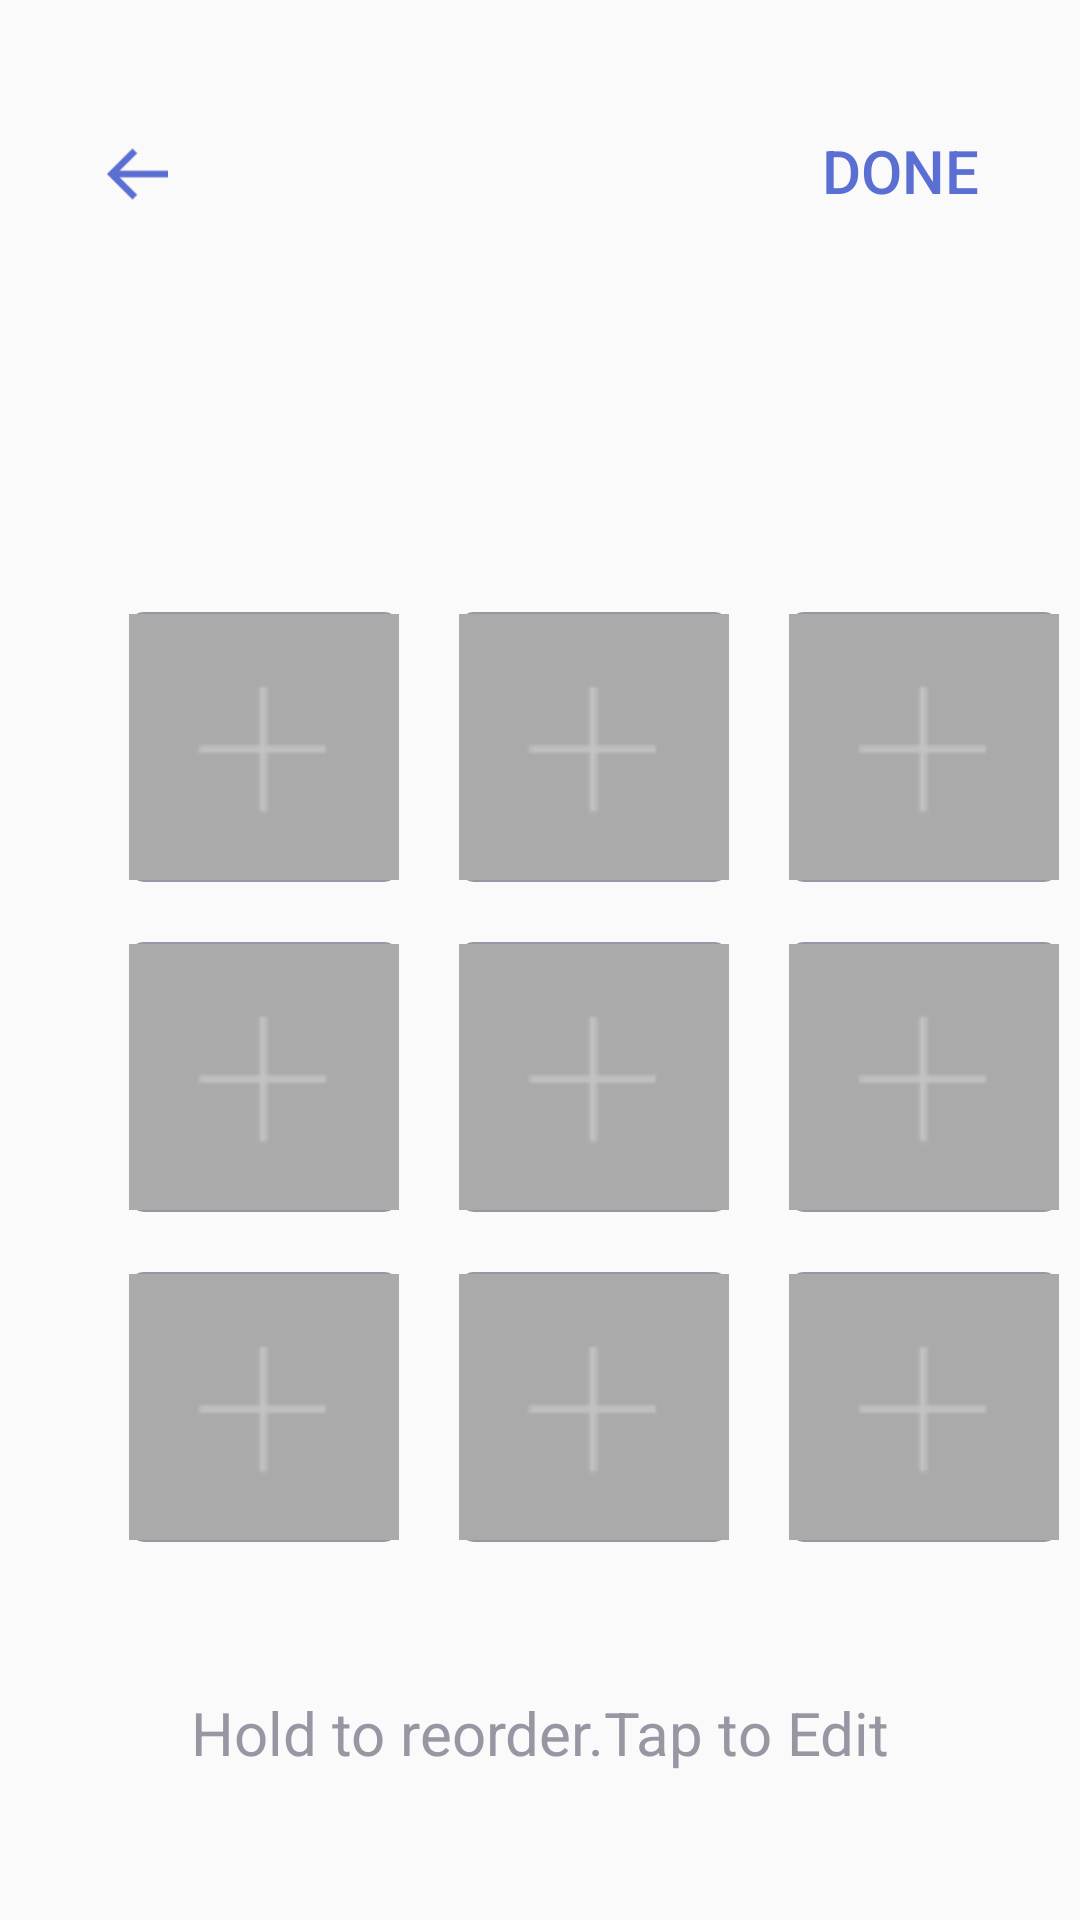

Screen size 1080 x 1920. Icon name, then its box in pixels as (x1, y1, x2, y2):
backblue: (107, 148, 168, 200)
